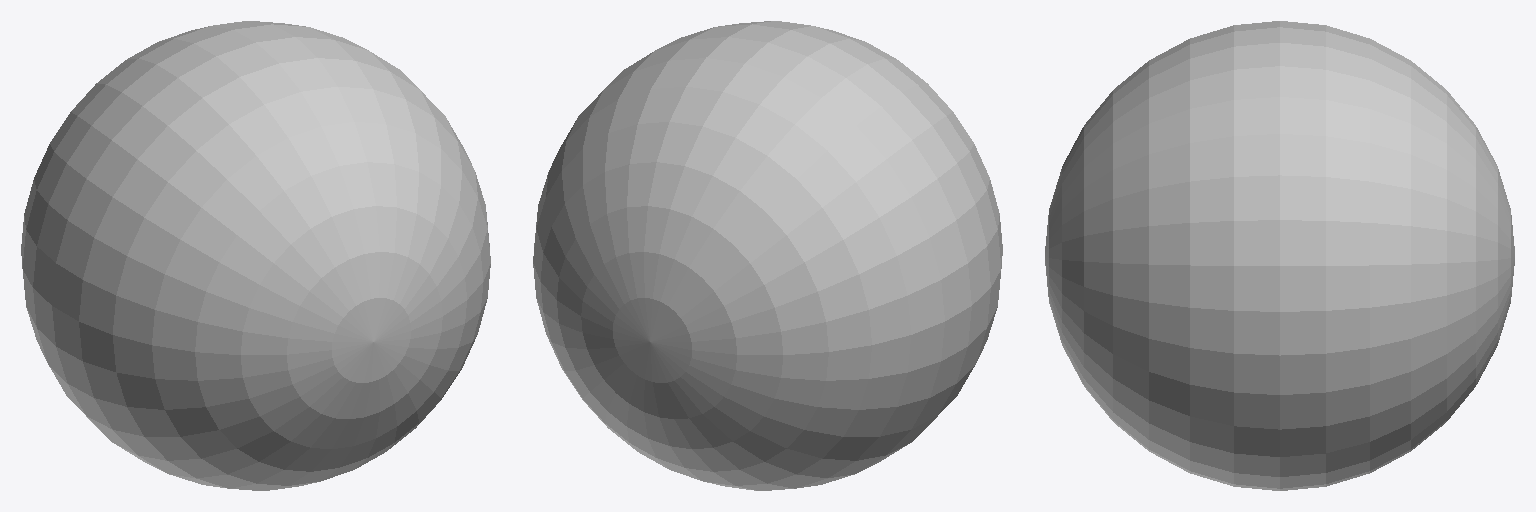
The model's file is ball.obj.
3 renders of one model, left to right at view 1: azimuth 30°, elevation 25°; view 2: azimuth 150°, elevation 25°; view 3: azimuth 270°, elevation 25°, orthographic.
Parts seen in each view (by area): view 1: Sphere; view 2: Sphere; view 3: Sphere.
Part boxes in pixels (left/top/right/bottom): Sphere: left=21, top=21, right=490, bottom=490; Sphere: left=533, top=21, right=1002, bottom=490; Sphere: left=1045, top=21, right=1514, bottom=490.
Size of the model in its own units: 2 by 2 by 2.